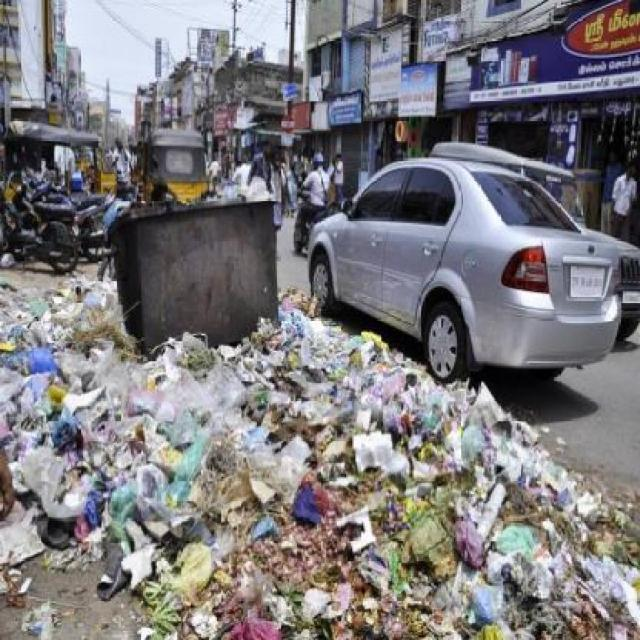garbage: (246, 322, 416, 639), (122, 316, 246, 639), (0, 275, 121, 560), (419, 365, 530, 639), (531, 422, 636, 640), (5, 563, 59, 634), (280, 279, 321, 325), (93, 563, 116, 600)
